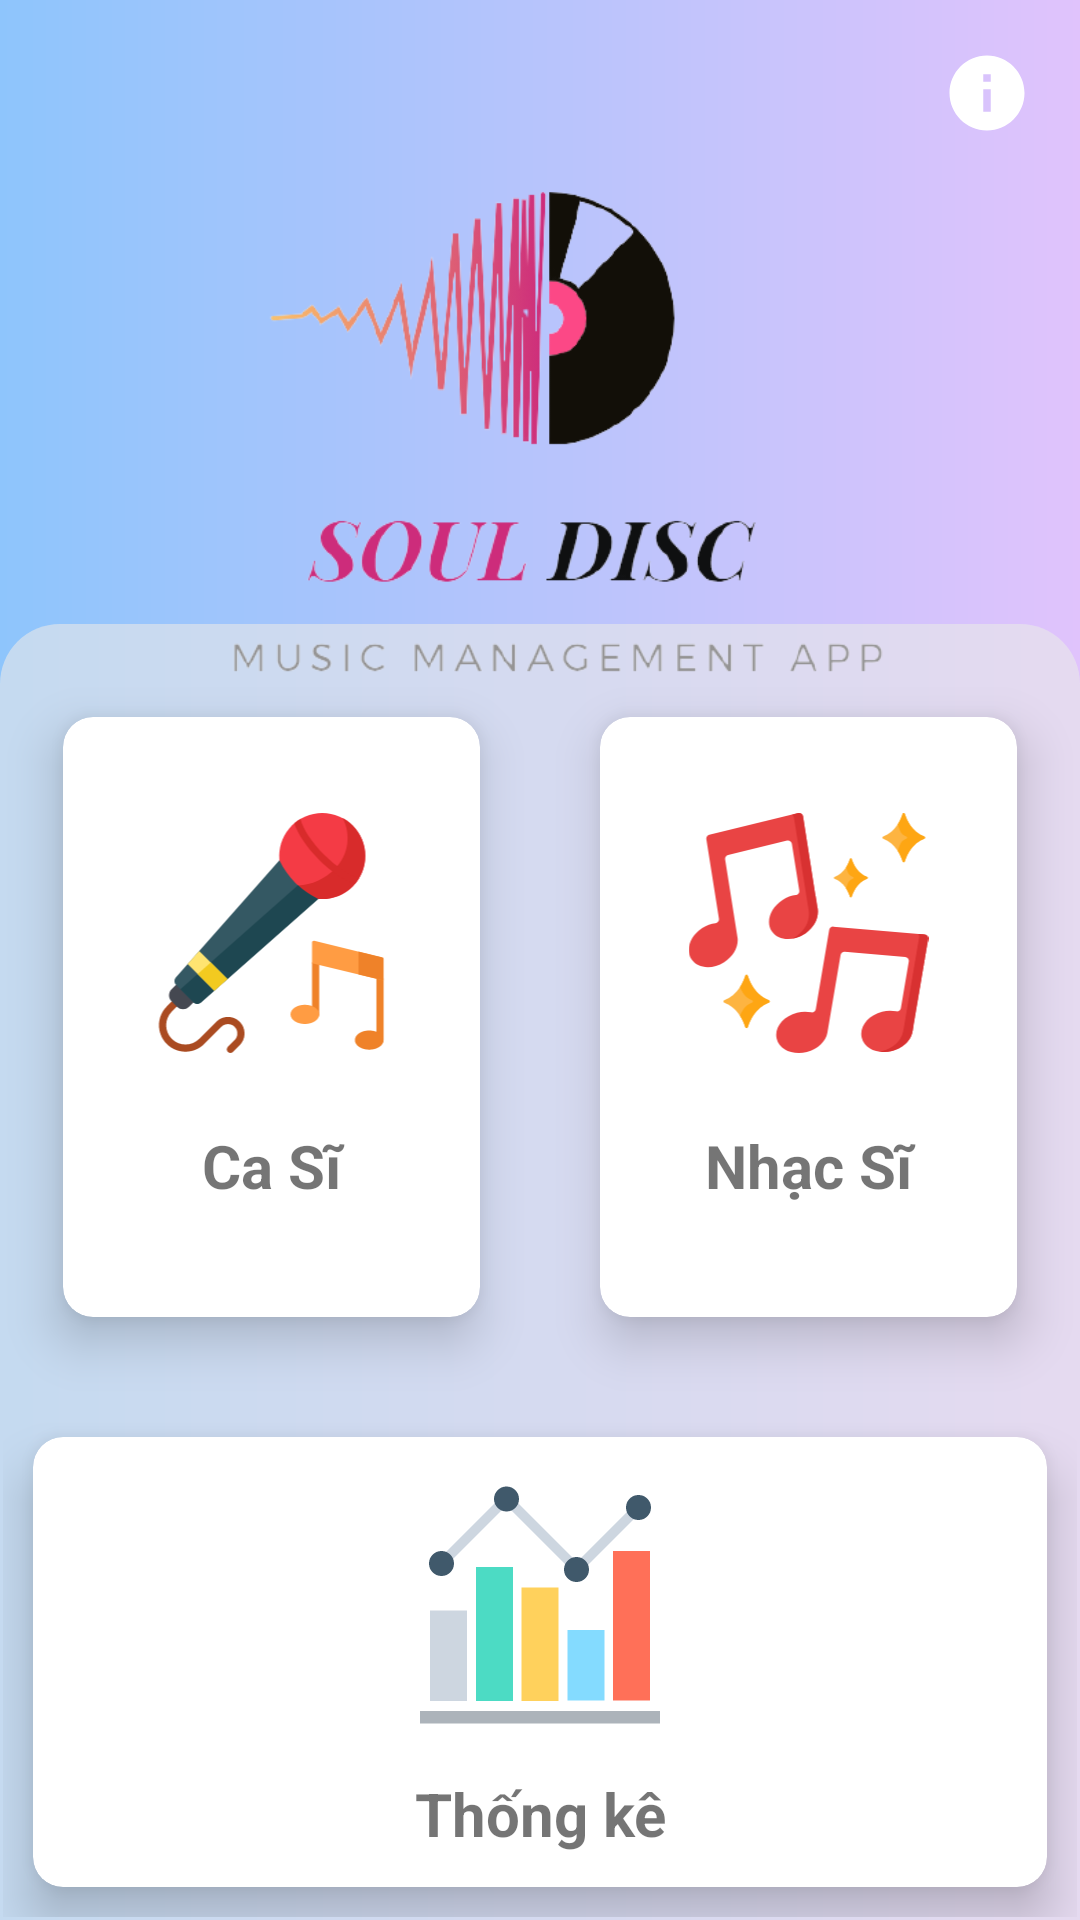

Point at icon controls on the screen. Image size 1080w x 1920h, points as (x,y).
bar chart: (540,1605)
info: (987,93)
microphone: (271,933)
